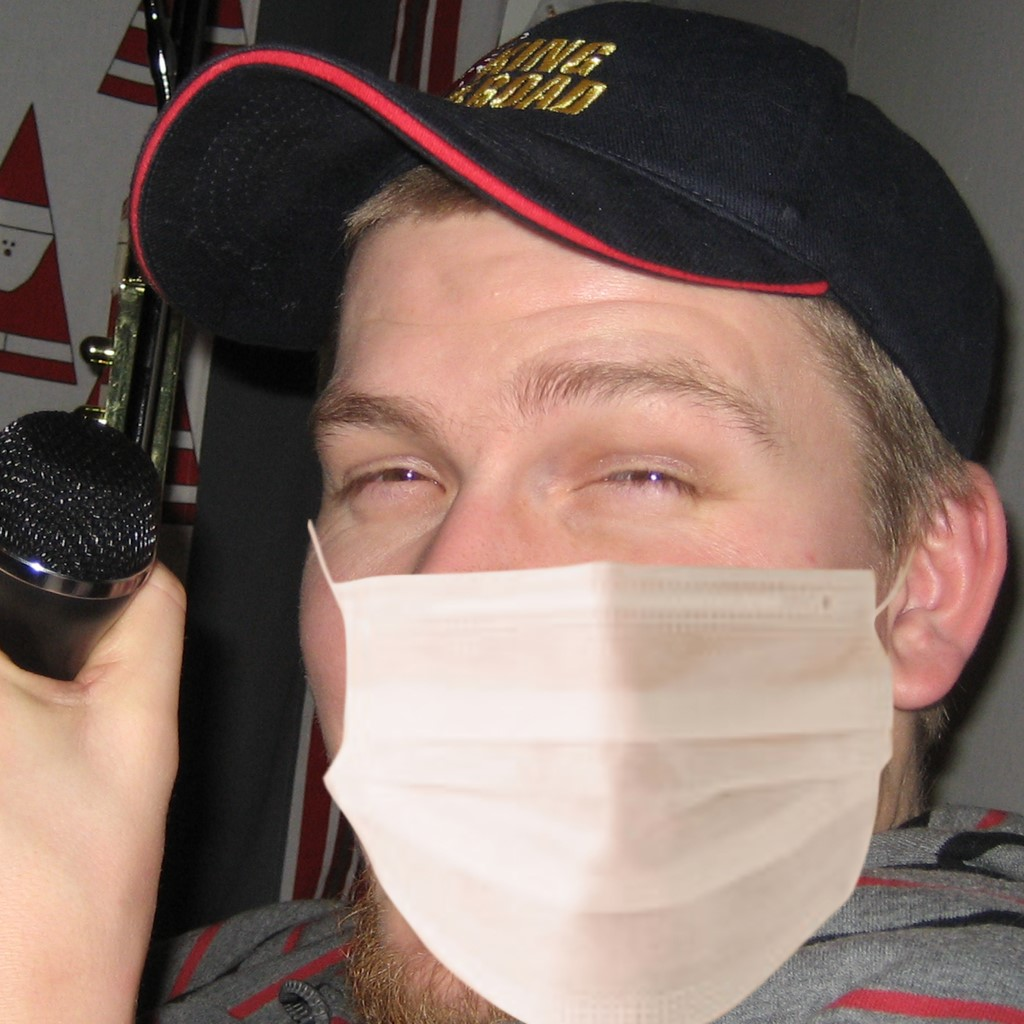con_mascara: (293, 177, 911, 996)
